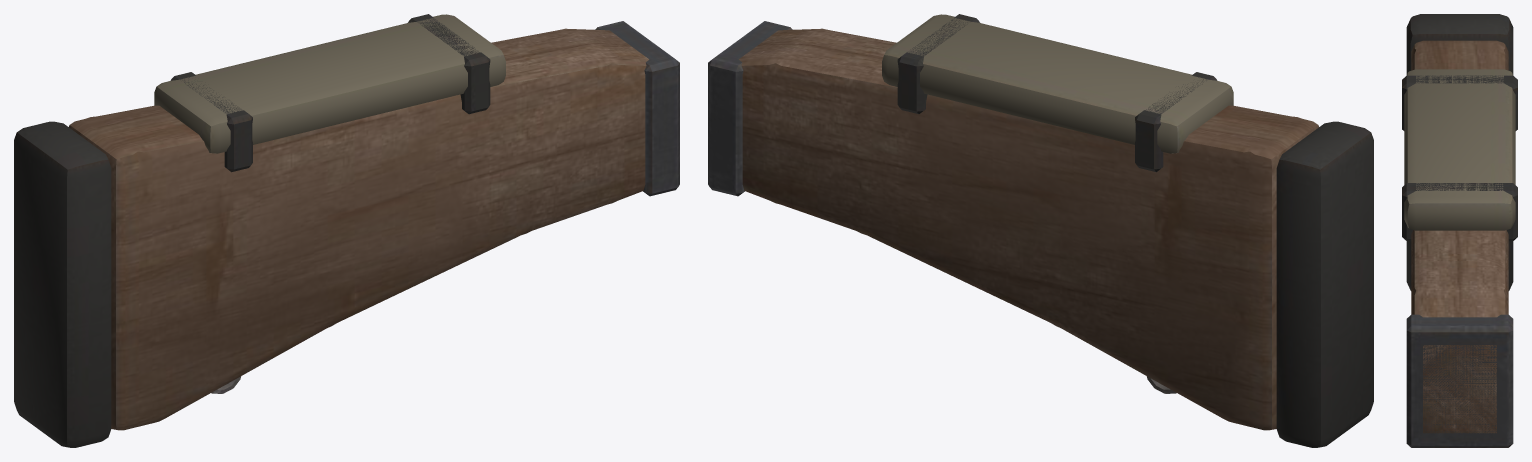
The model's file is padded_stock.glb.
The picture shows the model from 3 angles, left to right: view 1: azimuth 30°, elevation 25°; view 2: azimuth 150°, elevation 25°; view 3: azimuth 270°, elevation 25°; orthographic projection. The views are drawn at different scales.
Parts seen in each view (by area): view 1: padded_stock; view 2: padded_stock; view 3: padded_stock.
Part boxes in pixels (x1,y1,x2,y2): padded_stock: (14,14,679,447); padded_stock: (708,14,1373,447); padded_stock: (1402,14,1517,447).
Bounding box in the file's own units: 0.286 × 0.1336 × 0.05.
Materials: 1 (1 with a texture image).
